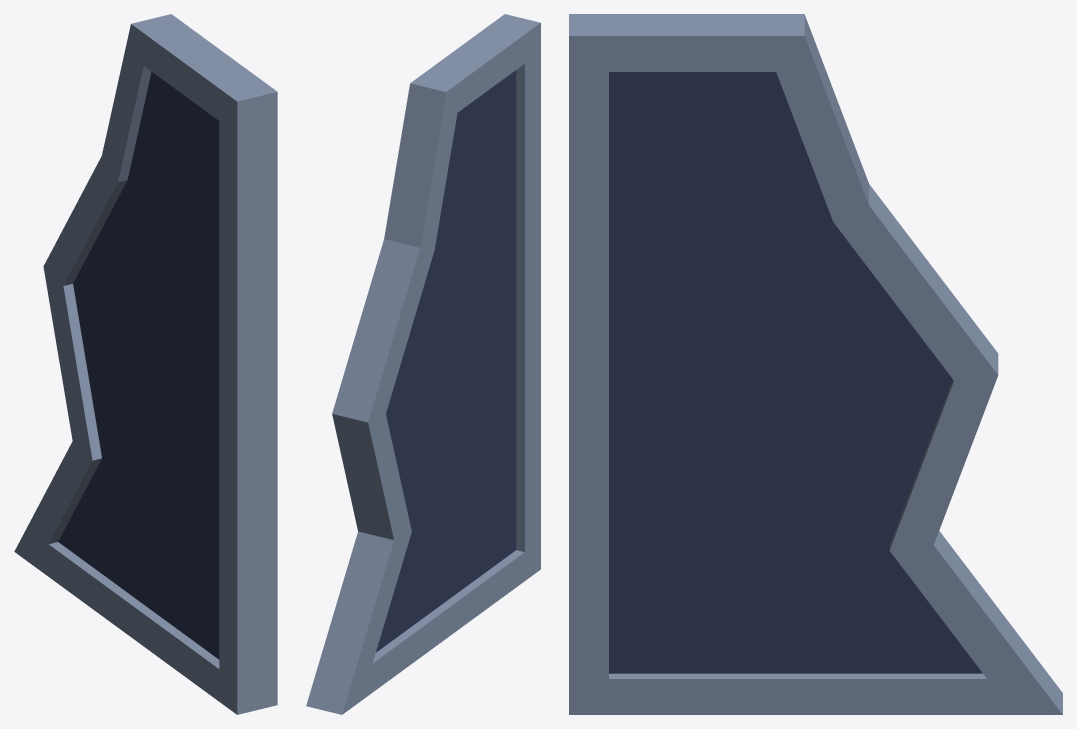
The model's file is door1.fbx.
3 renders of one model, left to right at view 1: azimuth 30°, elevation 25°; view 2: azimuth 150°, elevation 25°; view 3: azimuth 270°, elevation 25°, orthographic. The views are drawn at different scales.
Parts seen in each view (by area): view 1: Cube.017; view 2: Cube.017; view 3: Cube.017.
Boxes of the visible parts, x1,y1,x2,y2 form: Cube.017: (14, 14, 277, 714); Cube.017: (306, 14, 540, 714); Cube.017: (569, 14, 1062, 714).
Bounding box in the file's own units: 80 × 1160 × 764.
